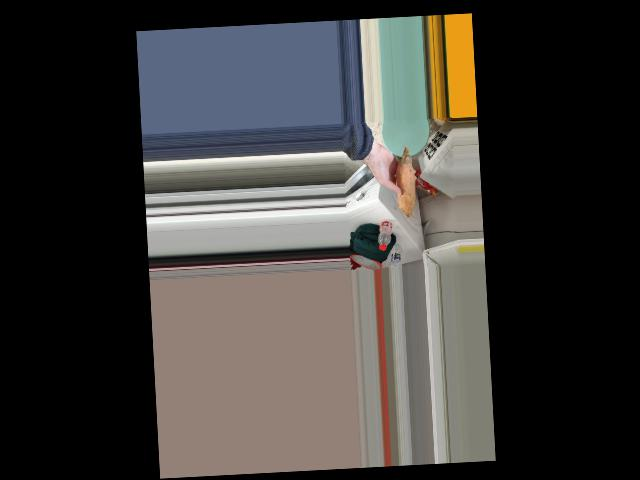sweet_potato: (396, 154, 415, 215)
